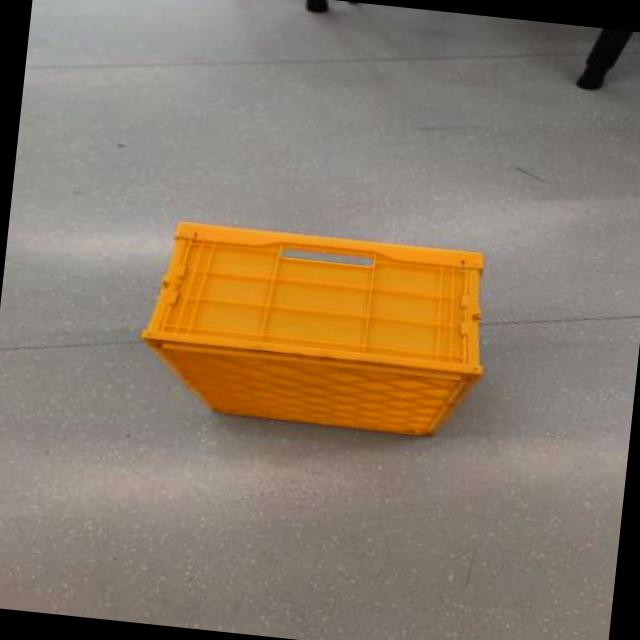box: (81, 192, 588, 488)
